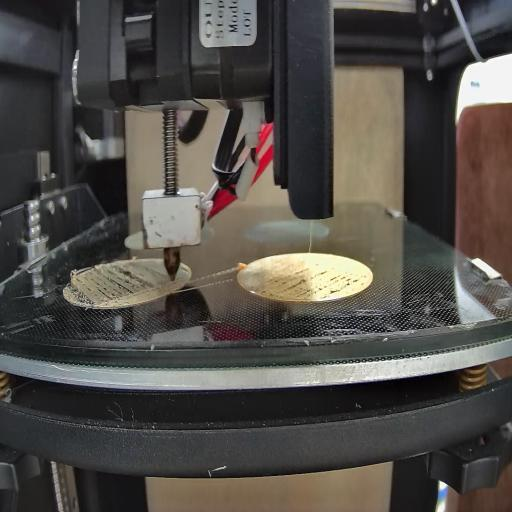under_extrusion: (67, 257, 160, 310), (252, 269, 366, 303)
